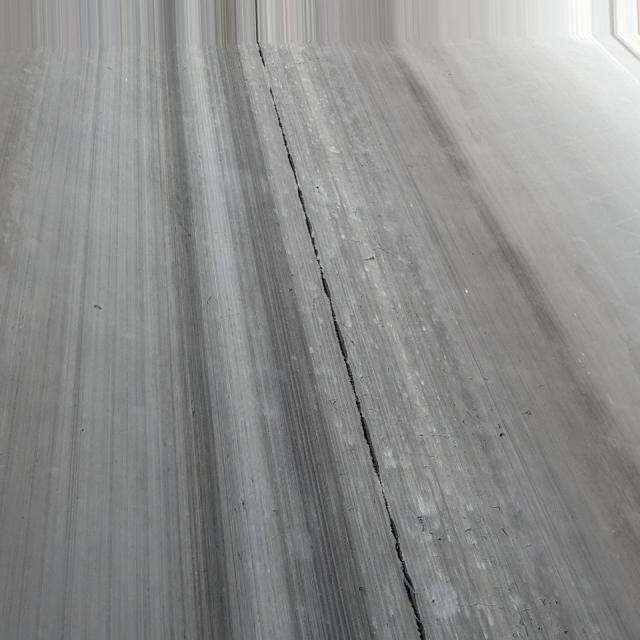Tear: (242, 4, 437, 636)
